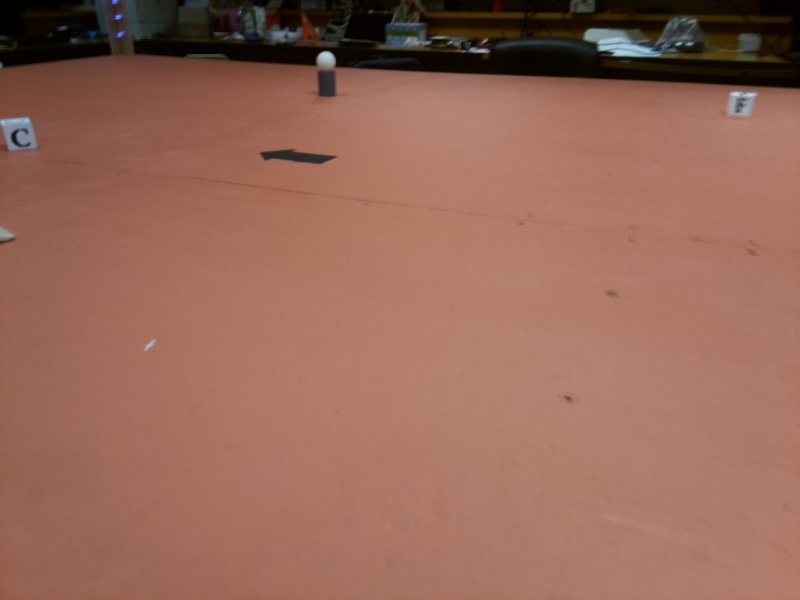blockC: (1, 113, 41, 149)
blockF: (726, 91, 758, 121)
obstacle: (315, 52, 338, 99)
slope: (1, 225, 17, 246)
start: (257, 148, 337, 168)
